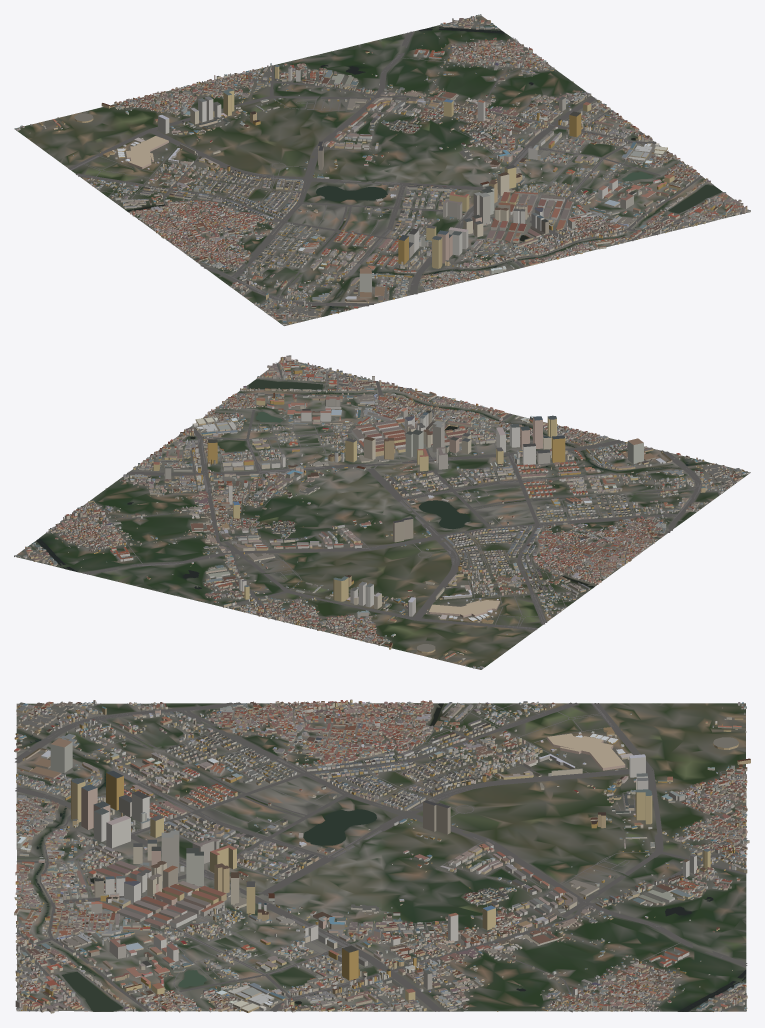
3 renders of one model, top to bottom at view 1: azimuth 30°, elevation 25°; view 2: azimuth 150°, elevation 25°; view 3: azimuth 270°, elevation 25°, orthographic. The views are drawn at different scales.
Visible parts, largest first — view 1: ground, buildings, roads, water; view 2: ground, buildings, roads, water; view 3: ground, buildings, roads, water.
Part boxes in pixels (<box>): ground: <box>14,15,748,325</box>; buildings: <box>15,14,750,324</box>; roads: <box>68,19,741,321</box>; water: <box>126,27,722,310</box>; ground: <box>16,362,750,669</box>; buildings: <box>14,355,749,669</box>; roads: <box>23,361,735,638</box>; water: <box>36,379,696,589</box>; ground: <box>16,703,746,1011</box>; buildings: <box>14,699,750,1013</box>; roads: <box>15,702,747,1011</box>; water: <box>30,703,746,1011</box>.
Bounding box in the file's own units: 2830 × 170 × 2833.
